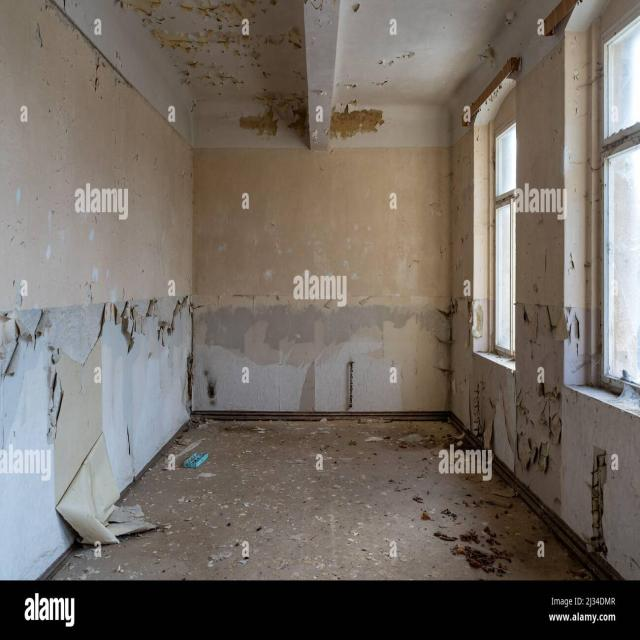Interior Finishing and Carpentry: (15, 26, 631, 565)
